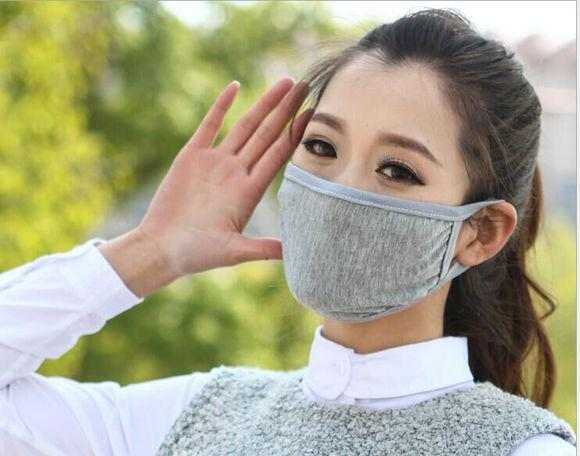OK: (276, 107, 477, 323)
